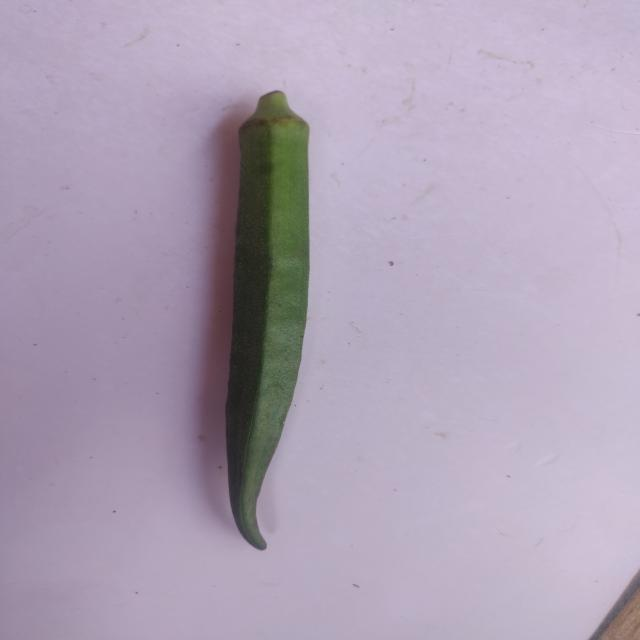Ladies Finger: (208, 70, 327, 560)
